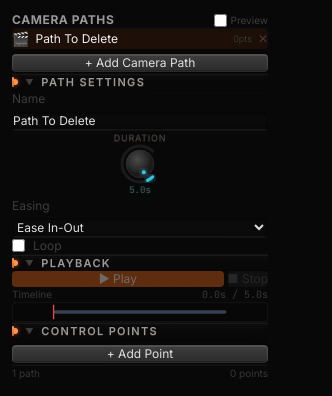
it: CameraPathEditor › path deletion › removes a path when clicking its remove button
Click the button named "Remove Path To Delete". click: point(263, 39)
box: [258, 31, 268, 47]
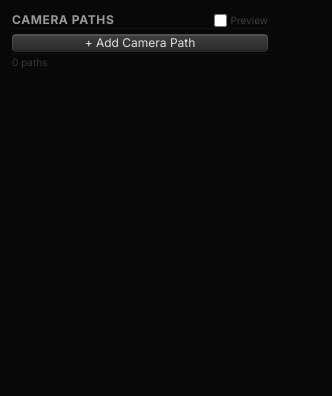
expect the button "Path To Delete" is gone: met
expect the text "0 paths" is shown: met, box [12, 55, 47, 70]
